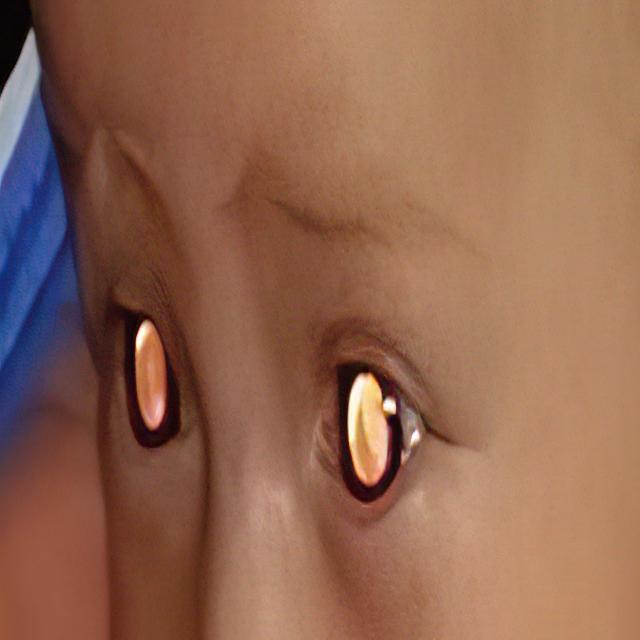reflexo-alterado: (320, 299, 428, 557), (102, 270, 192, 497)
